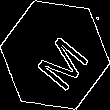M_NW: (23, 21, 87, 89)
